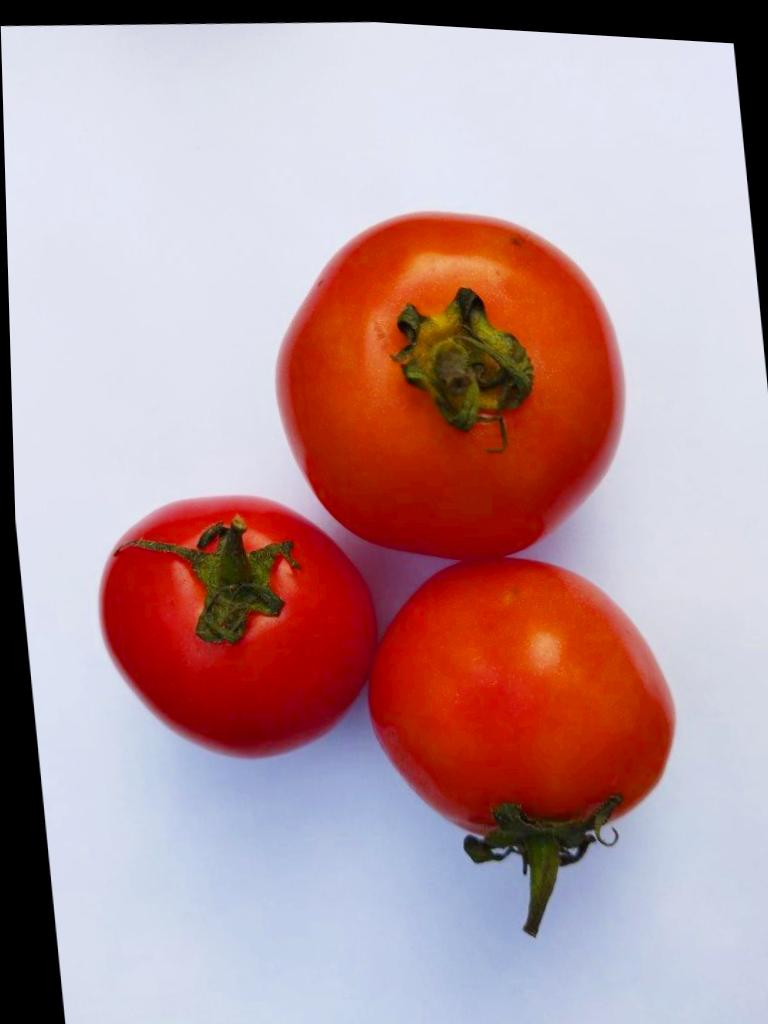tomato: (278, 214, 623, 556), (371, 562, 673, 933), (102, 495, 375, 756)
